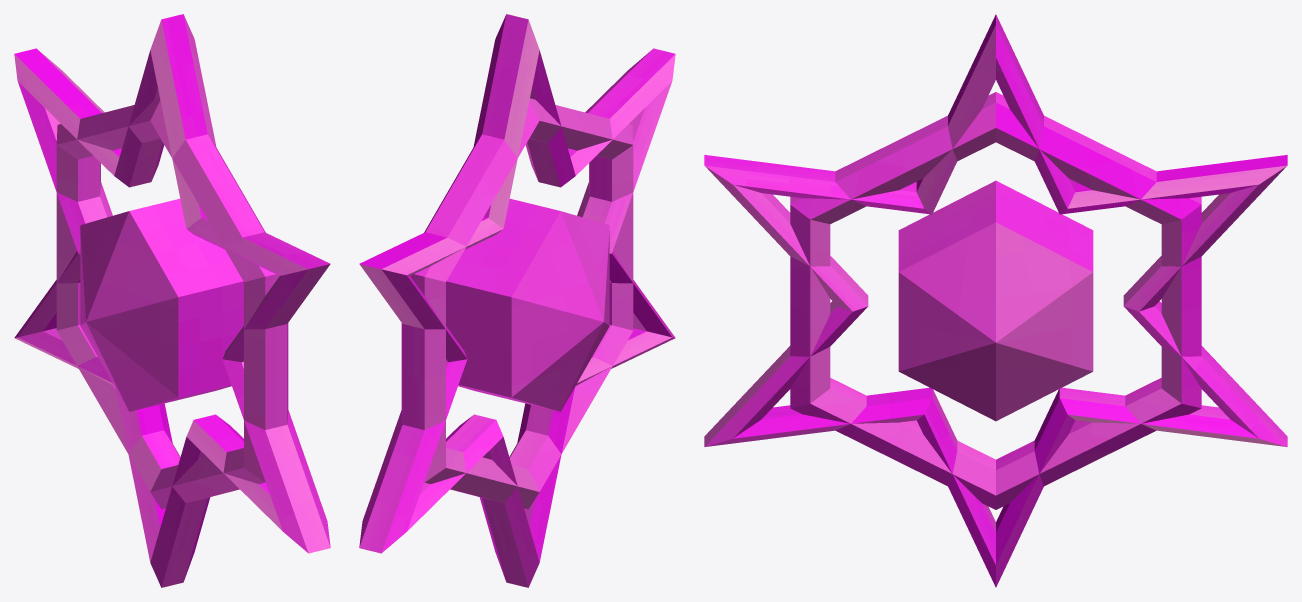
Rendered from playersoul.gltf.
3 views of the same model, side by side, from view 1: azimuth 30°, elevation 25°; view 2: azimuth 150°, elevation 25°; view 3: azimuth 270°, elevation 25° (orthographic).
Parts seen in each view (by area): view 1: Ring, Core; view 2: Ring, Core; view 3: Ring, Core.
Boxes of the visible parts, left/top/right/bottom form: Ring: left=14, top=14, right=330, bottom=587; Core: left=80, top=198, right=243, bottom=411; Ring: left=359, top=14, right=675, bottom=587; Core: left=446, top=198, right=609, bottom=411; Ring: left=704, top=14, right=1287, bottom=587; Core: left=898, top=180, right=1093, bottom=421.
Size of the model in its own units: 0.072 by 0.2263 by 0.2124.
Materials: 1 (1 with a texture image).
